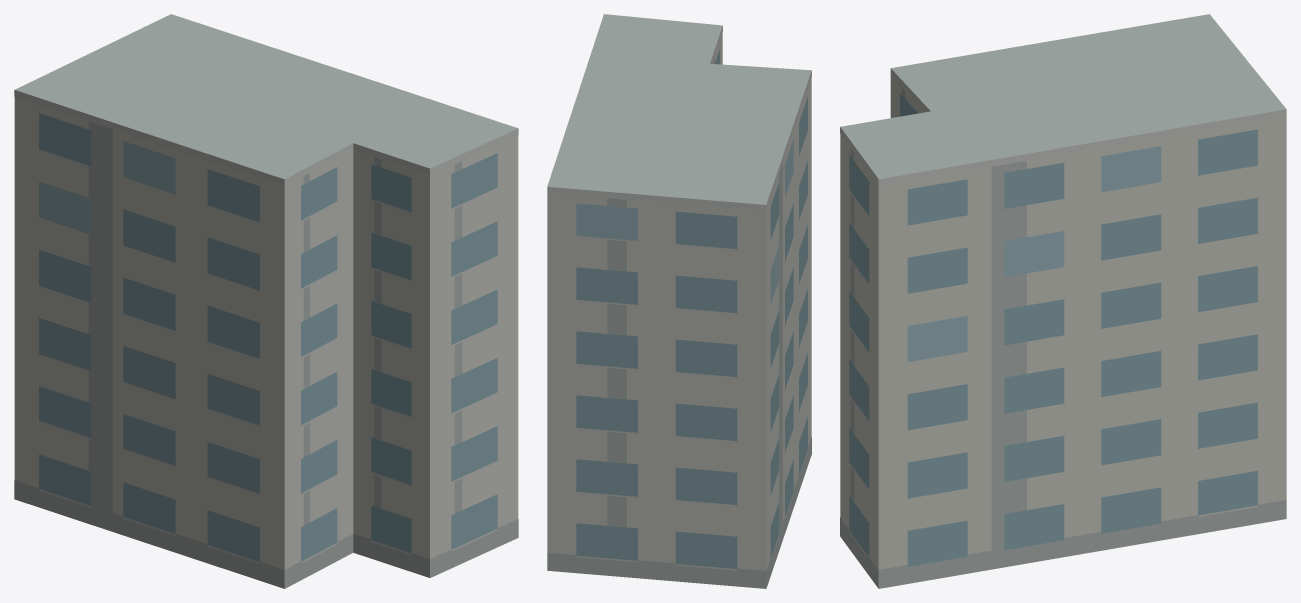
The model's file is survey-upis-32884283.glb.
The picture shows the model from 3 angles, left to right: view 1: azimuth 30°, elevation 25°; view 2: azimuth 150°, elevation 25°; view 3: azimuth 270°, elevation 25°; orthographic projection. The views are drawn at different scales.
Visible parts, largest first — view 1: survey-upis-32884283.tmp; view 2: survey-upis-32884283.tmp; view 3: survey-upis-32884283.tmp.
Part boxes in pixels (<box>): survey-upis-32884283.tmp: <box>14,14,518,588</box>; survey-upis-32884283.tmp: <box>547,14,811,588</box>; survey-upis-32884283.tmp: <box>840,14,1286,588</box>.
Size of the model in its own units: 12.39 by 14.31 by 14.14.
